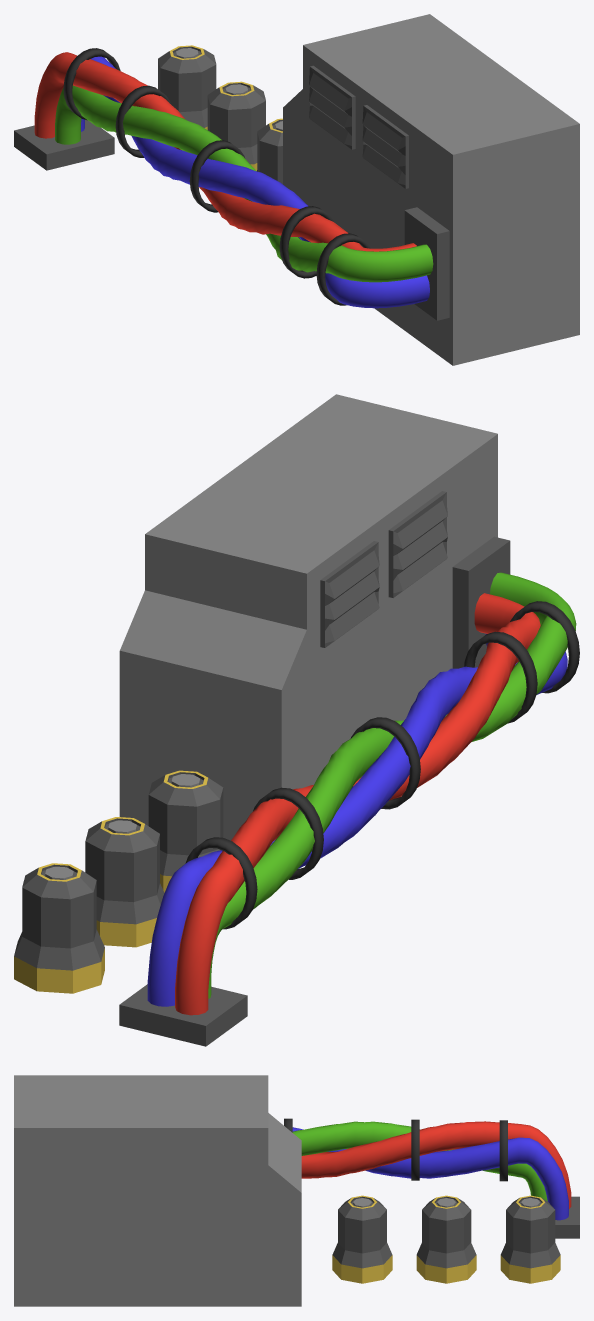
File: bigWires.glb
3 renders of one model, top to bottom at view 1: azimuth 30°, elevation 25°; view 2: azimuth 150°, elevation 25°; view 3: azimuth 270°, elevation 25°, orthographic. The views are drawn at different scales.
Visible parts, largest first — view 1: Big Wires; view 2: Big Wires; view 3: Big Wires.
Part boxes in pixels (bbox=[...]): Big Wires: bbox=[14, 14, 579, 365]; Big Wires: bbox=[14, 394, 579, 1046]; Big Wires: bbox=[14, 1075, 579, 1306].
Size of the model in its own units: 0.7885 by 0.6858 by 1.97.
